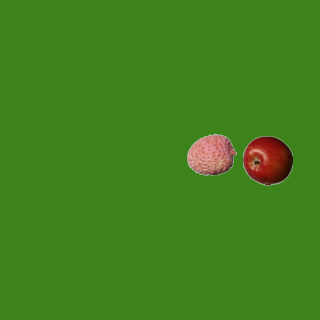Apple Braeburn: (242, 135, 292, 185)
Lychee: (186, 129, 236, 179)
